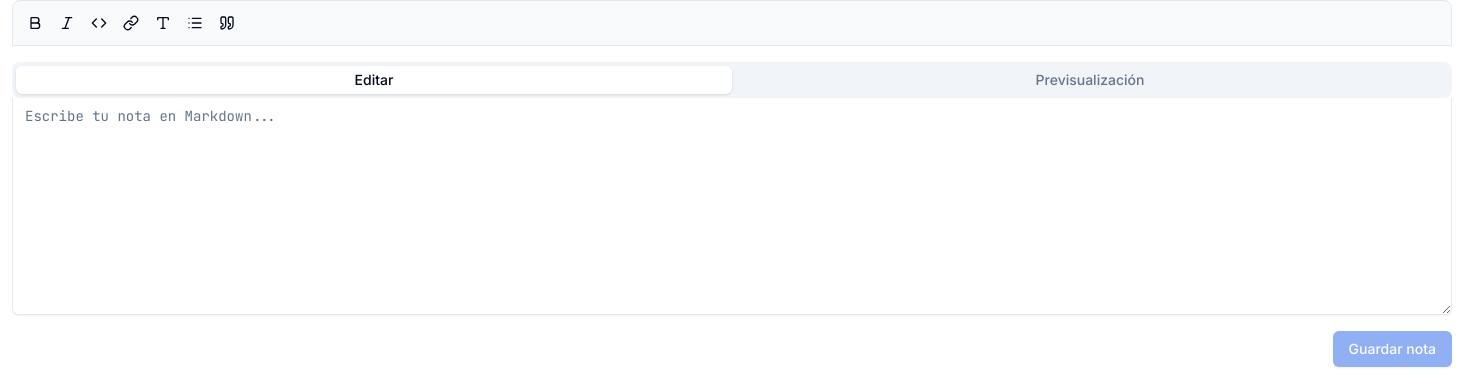
NoteEditor › renders Markdown en la previsualización (negrita → <strong>)
In the text box with placeholder "Escribe tu nota en Markdown...": (732, 206) [12,98,1452,315], type "**negrita**"
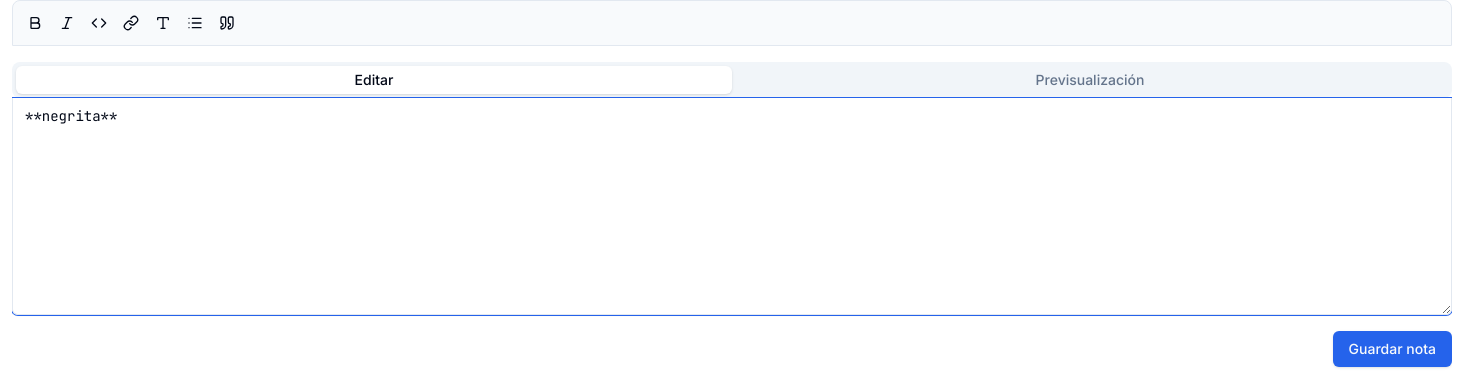
Click the tab "Previsualización": (1090, 80) [732,66,1448,94]
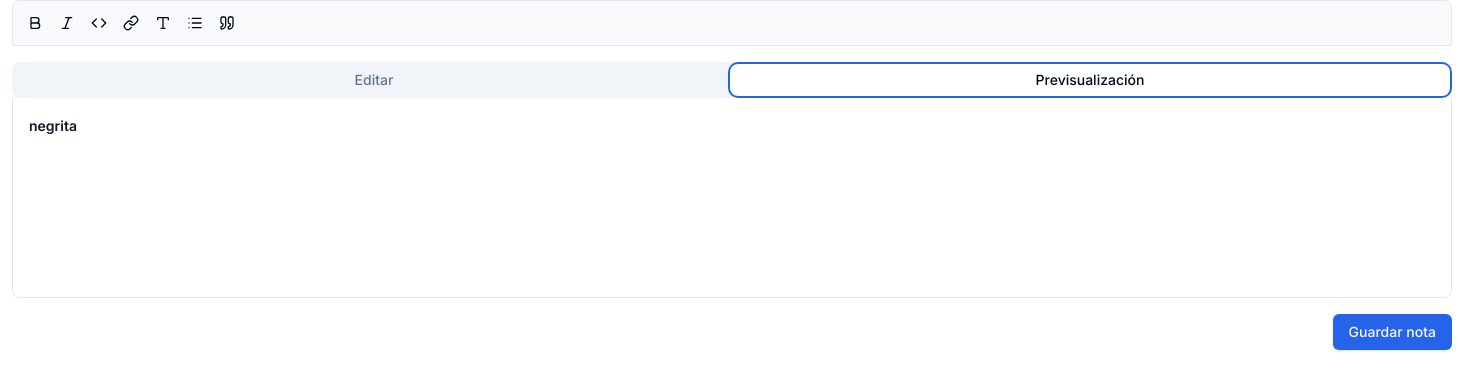
Result: the text "negrita" is shown at [29,117,77,134]
